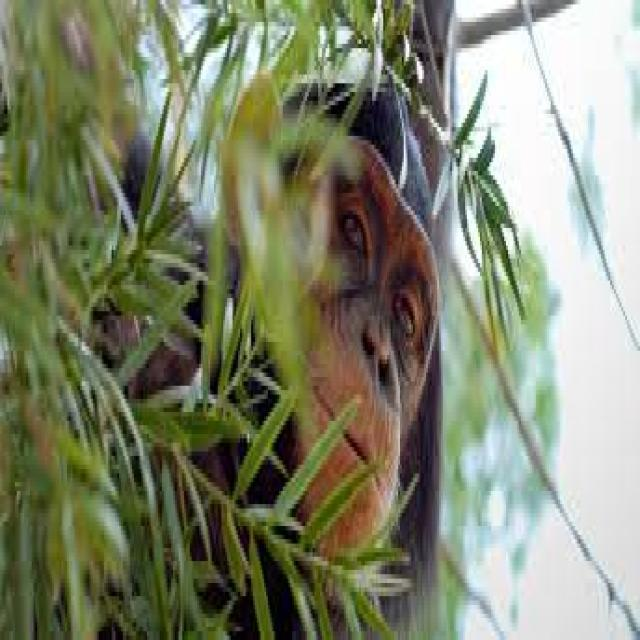Chimpanzee: (122, 56, 447, 629)
